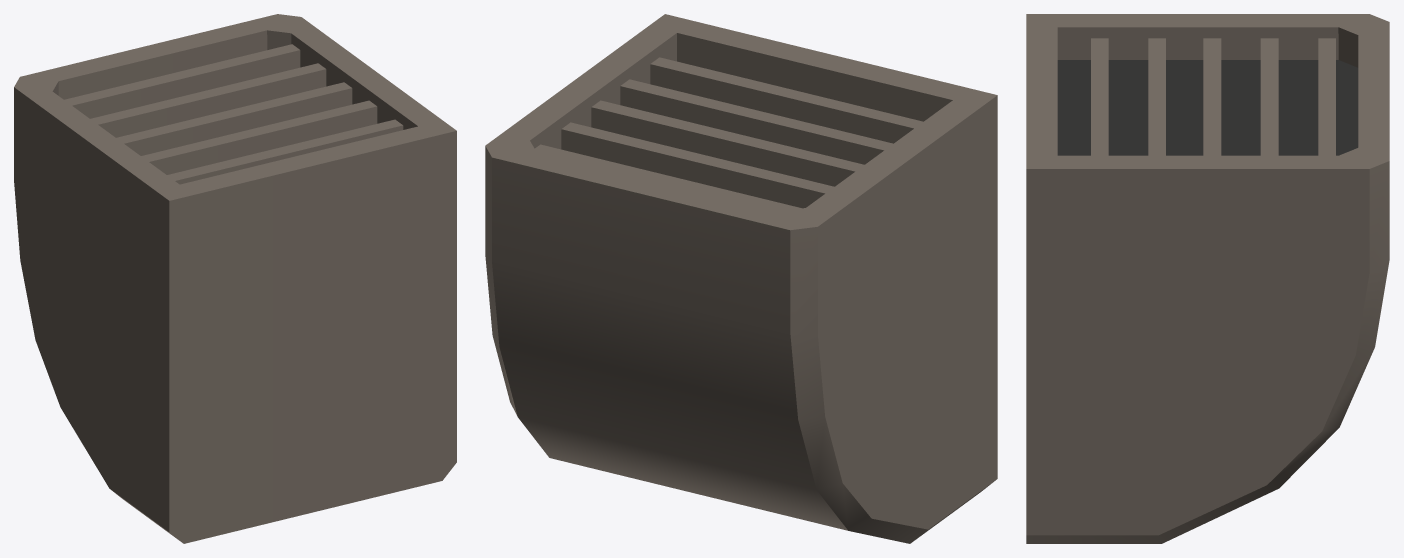
The model's file is VENTS_2_A.glb.
3 renders of one model, left to right at view 1: azimuth 30°, elevation 25°; view 2: azimuth 150°, elevation 25°; view 3: azimuth 270°, elevation 25°, orthographic. The views are drawn at different scales.
Parts seen in each view (by area): view 1: VENTS_2_A; view 2: VENTS_2_A; view 3: VENTS_2_A.
Part boxes in pixels (x1,y1,x2,y2): VENTS_2_A: (14,14,456,543); VENTS_2_A: (485,14,997,543); VENTS_2_A: (1026,14,1389,543).
Size of the model in its own units: 0.5332 by 0.6142 by 0.5284.
1 material, 1 textured.
